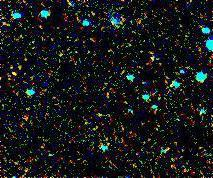star: (4, 59, 34, 89)
